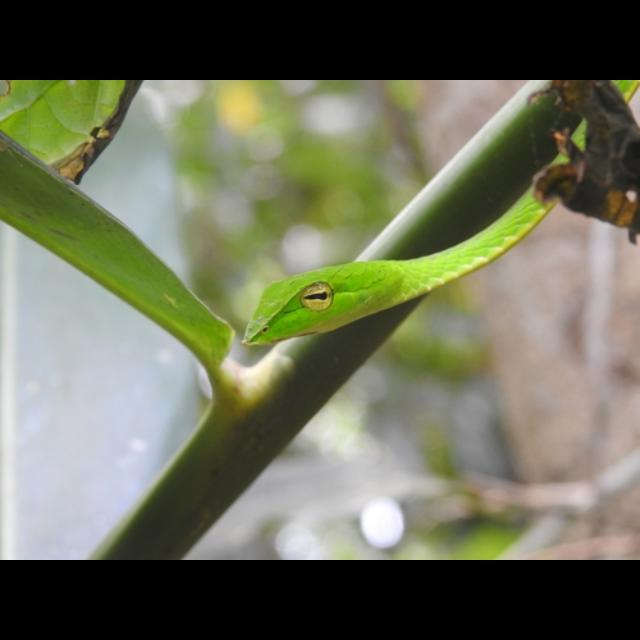snake: (213, 208, 562, 358)
